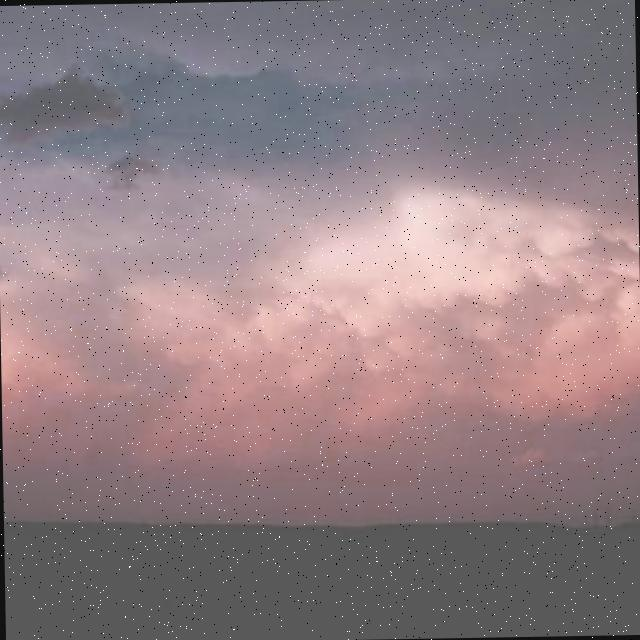Cb: (1, 28, 640, 475)
